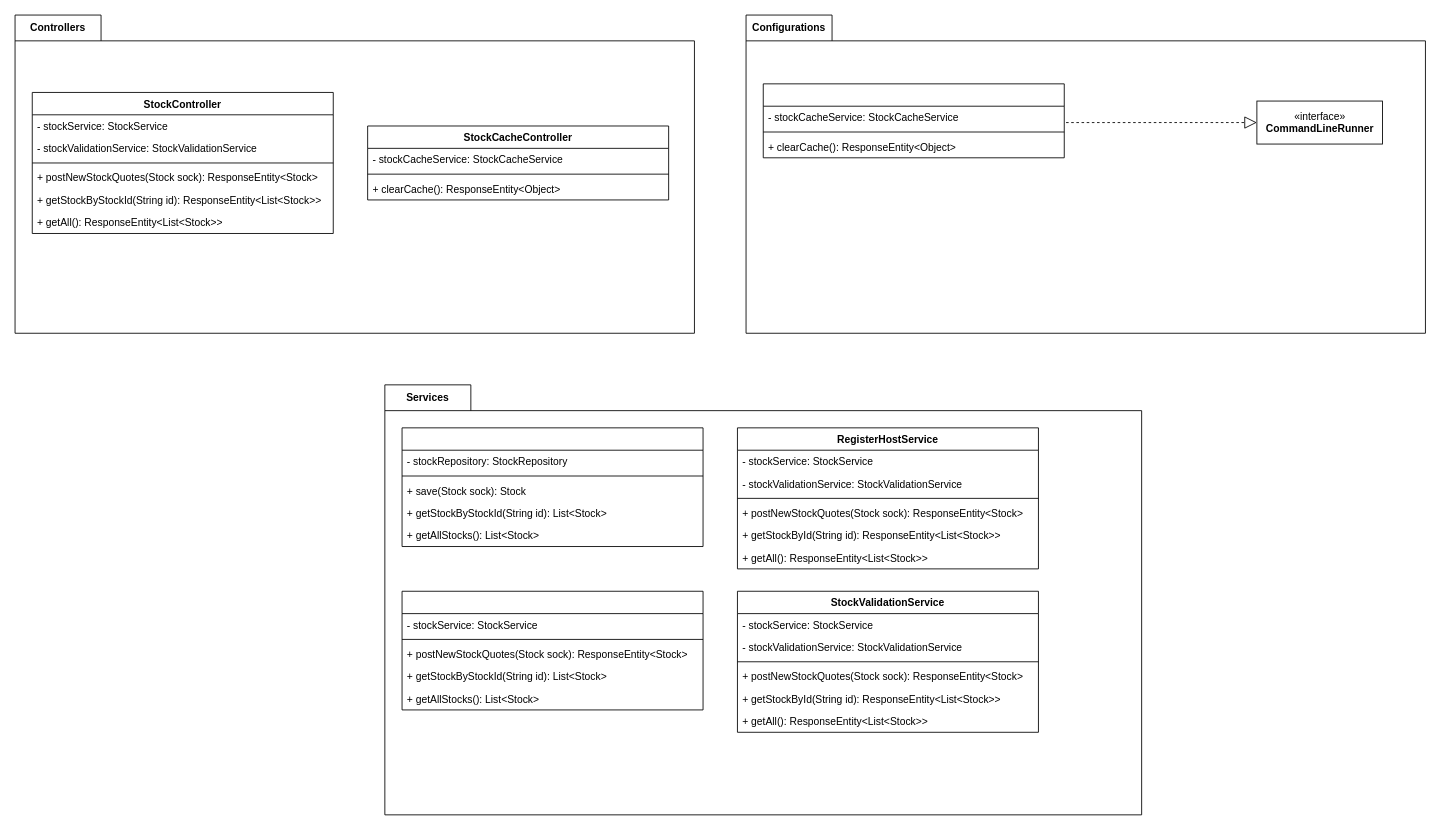
This 1441x830 diagram has some shape labels left out. Each missing label, with the box of its shape:
RegisterHost: (762, 83, 1064, 158)
StockCacheService: (401, 590, 703, 710)
StockService: (401, 427, 703, 547)
